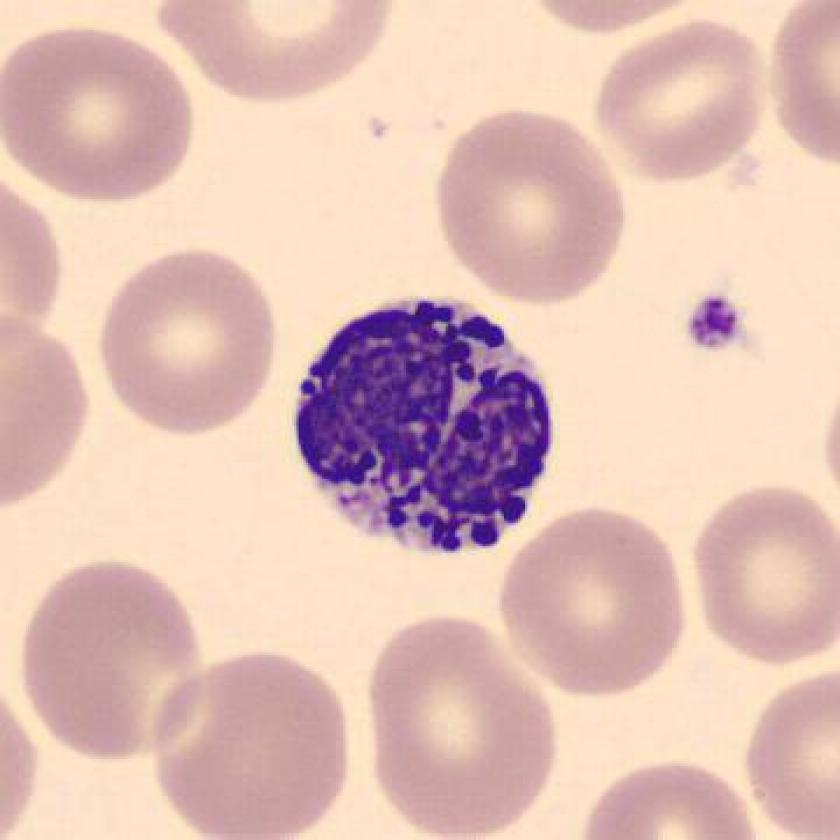basophil: (281, 279, 580, 566)
